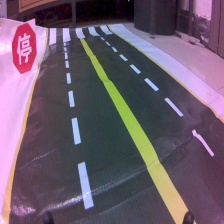stop: (12, 18, 40, 76)
